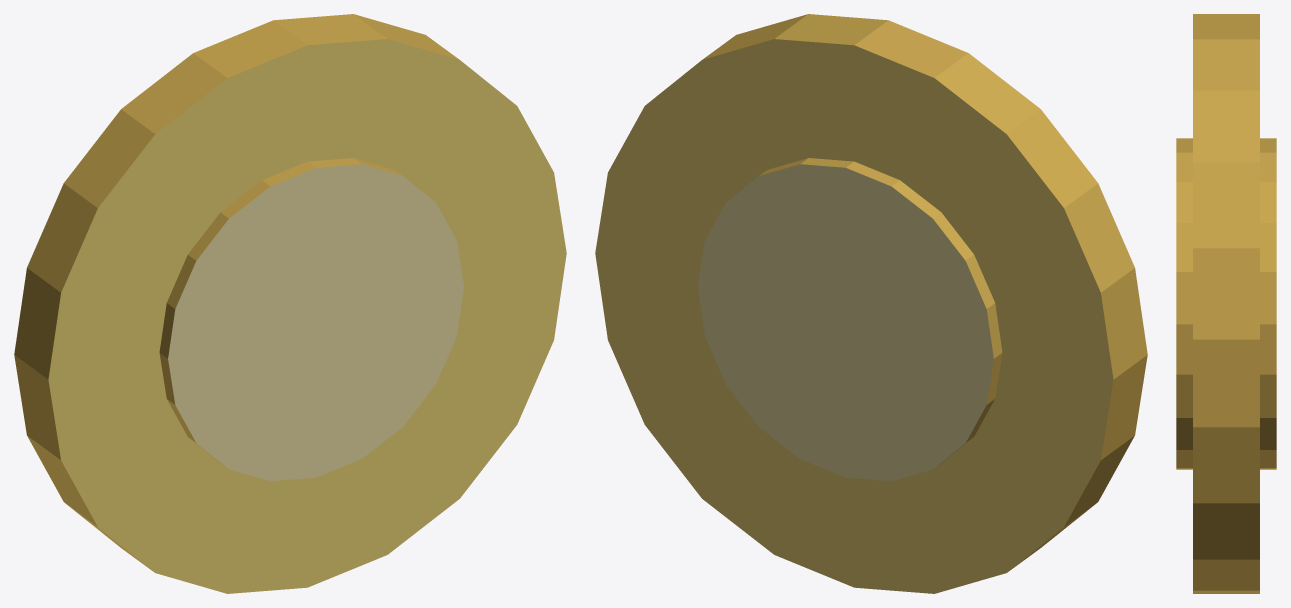
The model's file is coin.glb.
3 renders of one model, left to right at view 1: azimuth 30°, elevation 25°; view 2: azimuth 150°, elevation 25°; view 3: azimuth 270°, elevation 25°, orthographic. The views are drawn at different scales.
Parts seen in each view (by area): view 1: coin; view 2: coin; view 3: coin.
Boxes of the visible parts, <box> form: coin: <box>14,14,566,593</box>; coin: <box>595,14,1147,593</box>; coin: <box>1176,14,1276,593</box>.
Bounding box in the file's own units: 0.7 × 0.7 × 0.12.
